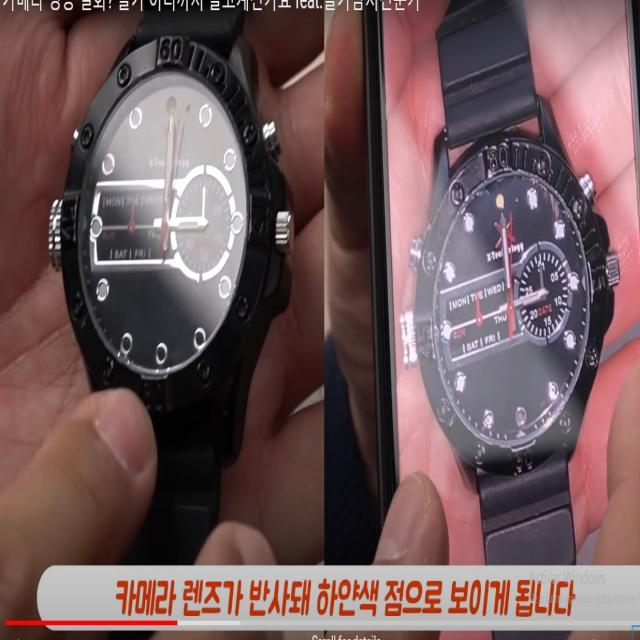hidden camera: (511, 399, 528, 432), (153, 341, 166, 365)
